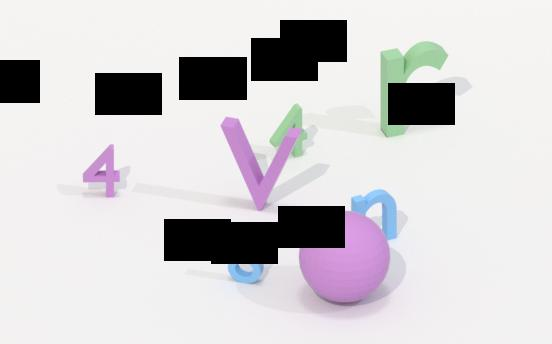4: (79, 138, 122, 202), (270, 103, 311, 160)
8: (227, 223, 266, 288)
R: (377, 39, 450, 140)
cau: (296, 207, 394, 305)
n: (351, 188, 403, 246)
v: (220, 113, 304, 215)
